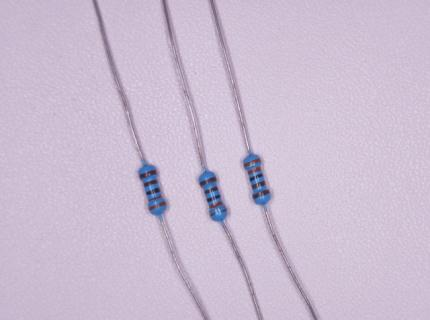Black band: (206, 194, 221, 203), (145, 188, 160, 195), (250, 174, 263, 182)
Brown band: (139, 169, 157, 180), (252, 189, 271, 199), (200, 176, 217, 186), (252, 180, 266, 190), (143, 179, 158, 188), (204, 186, 219, 194)
Orange band: (148, 201, 166, 211), (244, 158, 262, 168), (209, 209, 228, 217), (248, 166, 262, 174), (209, 201, 224, 208), (148, 195, 162, 202)
